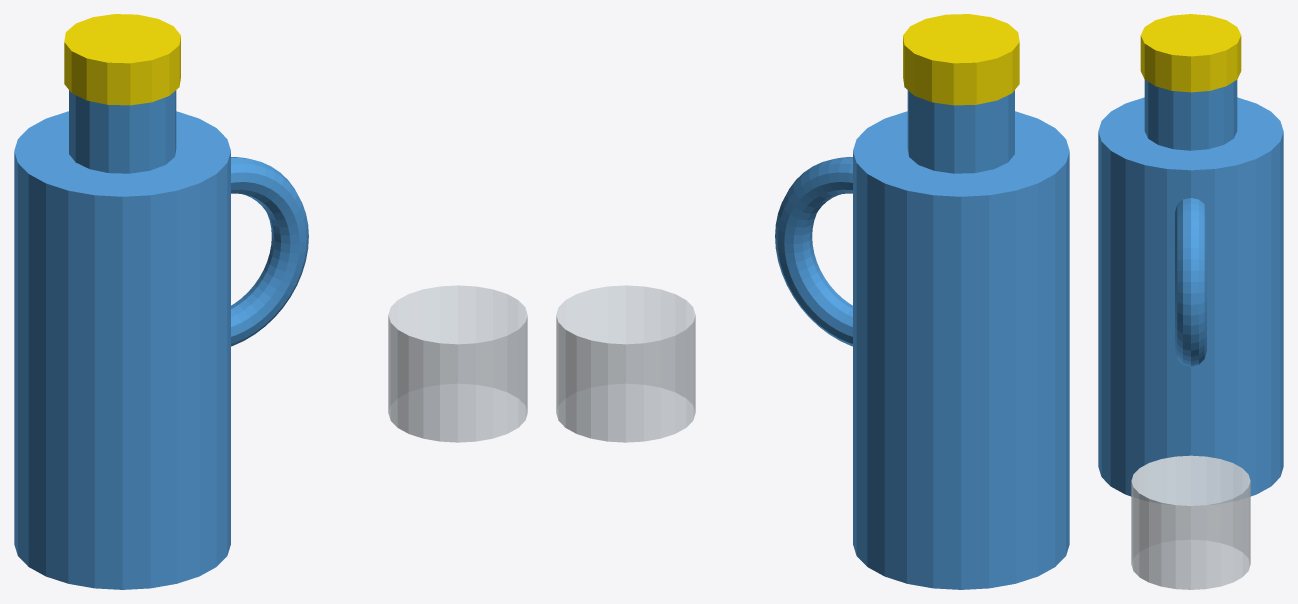
Rendered from detergent.glb.
3 views of the same model, side by side, from view 1: azimuth 30°, elevation 25°; view 2: azimuth 150°, elevation 25°; view 3: azimuth 270°, elevation 25° (orthographic). The views are drawn at different scales.
Parts seen in each view (by area): view 1: Detergent_Bottle, Detergent_MeasuringCup, Detergent_Cap, Detergent_Handle, Detergent_Neck; view 2: Detergent_Bottle, Detergent_MeasuringCup, Detergent_Cap, Detergent_Handle, Detergent_Neck; view 3: Detergent_Bottle, Detergent_MeasuringCup, Detergent_Cap, Detergent_Neck, Detergent_Handle.
Part boxes in pixels (x1,y1,x2,y2): Detergent_Bottle: [14, 111, 230, 589]; Detergent_MeasuringCup: [388, 285, 527, 442]; Detergent_Cap: [64, 14, 180, 105]; Detergent_Handle: [231, 157, 308, 346]; Detergent_Neck: [69, 90, 176, 173]; Detergent_Bottle: [853, 111, 1069, 589]; Detergent_MeasuringCup: [556, 285, 695, 442]; Detergent_Cap: [903, 14, 1019, 105]; Detergent_Handle: [775, 157, 852, 346]; Detergent_Neck: [907, 90, 1014, 173]; Detergent_Bottle: [1098, 97, 1283, 496]; Detergent_MeasuringCup: [1131, 455, 1250, 589]; Detergent_Cap: [1140, 14, 1241, 92]; Detergent_Neck: [1144, 80, 1237, 150]; Detergent_Handle: [1175, 198, 1206, 366].
Bounding box in the file's own units: 0.365 × 0.36 × 0.14.
